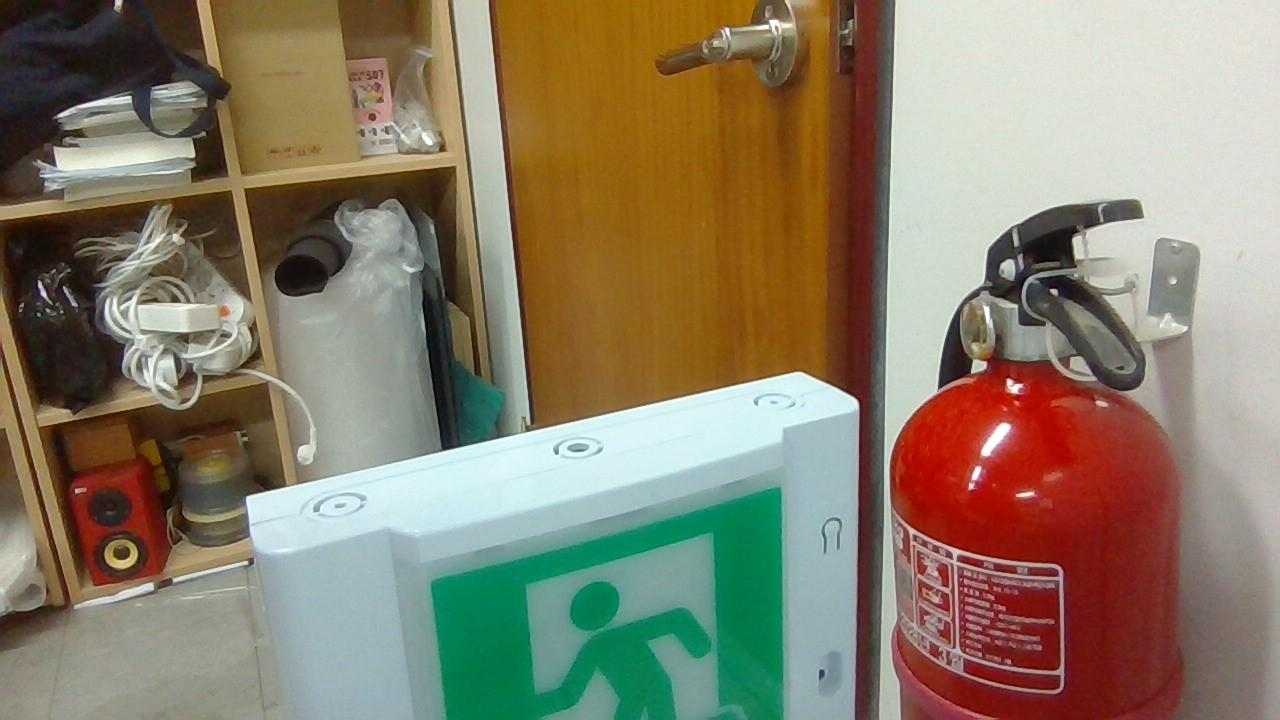emergency_exit: (244, 370, 862, 718), (424, 483, 788, 718), (345, 55, 399, 156)
